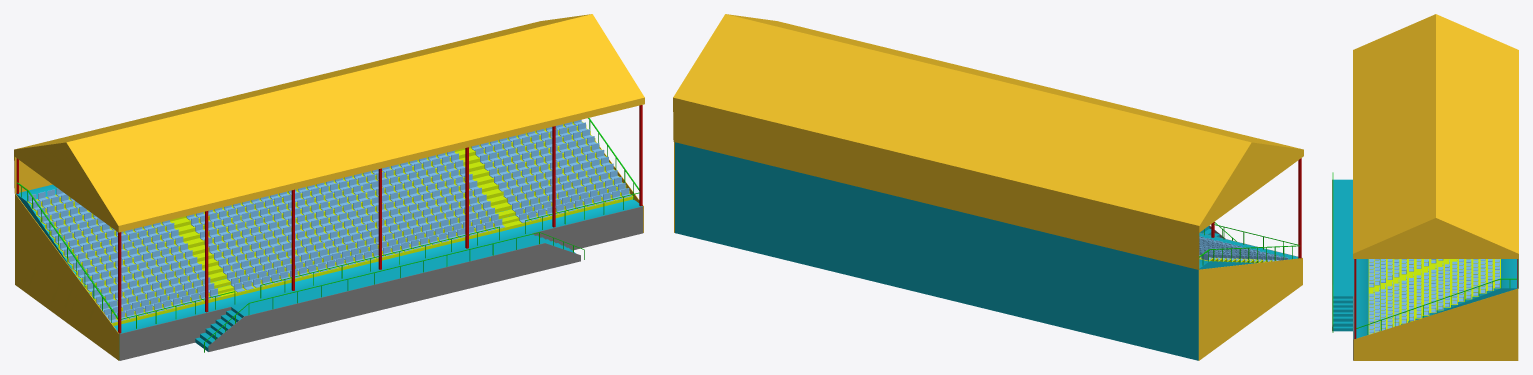
Rendered from Tribune_1.fbx.
3 views of the same model, side by side, from view 1: azimuth 30°, elevation 25°; view 2: azimuth 150°, elevation 25°; view 3: azimuth 270°, elevation 25° (orthographic). The views are drawn at different scales.
Parts seen in each view (by area): view 1: Tribune_1; view 2: Tribune_1; view 3: Tribune_1.
Boxes of the visible parts, <box> form: Tribune_1: <box>14,14,644,360</box>; Tribune_1: <box>673,14,1303,360</box>; Tribune_1: <box>1332,14,1518,360</box>.
Size of the model in its own units: 11355 by 3725 by 4395.
